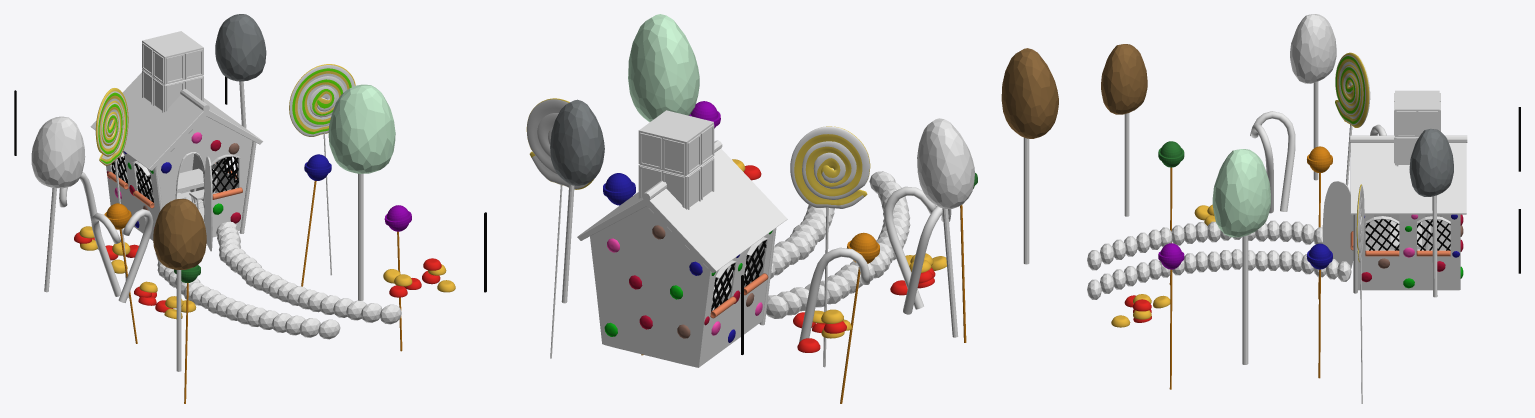
Rendered from land4 details.fbx.
The picture shows the model from 3 angles, left to right: view 1: azimuth 30°, elevation 25°; view 2: azimuth 150°, elevation 25°; view 3: azimuth 270°, elevation 25°; orthographic projection. The views are drawn at different scales.
Parts seen in each view (by area): view 1: CANDY2, GROUNDCHOCOLATE STONES, HOUSE.001, CANDY1.010, HOUSE, HOUSE CHOCOLATE, ground candy.001, CANDY2.003, CANDY2.001, Circle, WINDOW, DINNING (+2 smaller); view 2: CANDY2, HOUSE.001, HOUSE, CANDY1.010, GROUNDCHOCOLATE STONES, HOUSE CHOCOLATE, CANDY2.001, CANDY2.003, ground candy.001, HOUSE STONES.001, WINDOW, Circle; view 3: CANDY2, GROUNDCHOCOLATE STONES, HOUSE, HOUSE.001, CANDY1.010, CANDY2.003, Circle, HOUSE CHOCOLATE, CANDY2.001, WINDOW, ground candy.001, HOUSE STONES.001 (+1 smaller).
Part boxes in pixels (left/top/right/bottom): CANDY2: left=31, top=14, right=395, bottom=371; GROUNDCHOCOLATE STONES: left=155, top=221, right=401, bottom=339; HOUSE.001: left=106, top=116, right=252, bottom=240; CANDY1.010: left=95, top=64, right=355, bottom=297; HOUSE: left=90, top=72, right=263, bottom=193; HOUSE CHOCOLATE: left=142, top=31, right=203, bottom=112; ground candy.001: left=74, top=226, right=455, bottom=319; CANDY2.003: left=104, top=154, right=411, bottom=403; CANDY2.001: left=59, top=172, right=153, bottom=302; Circle: left=153, top=88, right=256, bottom=251; WINDOW: left=14, top=76, right=238, bottom=202; DINNING: left=138, top=168, right=217, bottom=209; CANDY2: left=550, top=14, right=1058, bottom=337; HOUSE.001: left=590, top=206, right=773, bottom=367; HOUSE: left=577, top=148, right=787, bottom=278; CANDY1.010: left=526, top=98, right=870, bottom=367; GROUNDCHOCOLATE STONES: left=744, top=171, right=910, bottom=318; HOUSE CHOCOLATE: left=638, top=110, right=714, bottom=209; CANDY2.001: left=799, top=186, right=951, bottom=342; CANDY2.003: left=603, top=101, right=977, bottom=403; ground candy.001: left=732, top=159, right=946, bottom=352; HOUSE STONES.001: left=604, top=225, right=772, bottom=342; WINDOW: left=484, top=212, right=766, bottom=354; Circle: left=642, top=140, right=776, bottom=325; CANDY2: left=1101, top=14, right=1453, bottom=364; GROUNDCHOCOLATE STONES: left=1087, top=220, right=1351, bottom=299; HOUSE: left=1350, top=142, right=1466, bottom=223; HOUSE.001: left=1357, top=214, right=1460, bottom=290; CANDY1.010: left=1335, top=52, right=1370, bottom=403; CANDY2.003: left=1158, top=141, right=1332, bottom=389; Circle: left=1322, top=135, right=1467, bottom=293; HOUSE CHOCOLATE: left=1394, top=90, right=1440, bottom=166; CANDY2.001: left=1250, top=111, right=1386, bottom=213; WINDOW: left=1365, top=107, right=1520, bottom=273; ground candy.001: left=1111, top=204, right=1215, bottom=327; HOUSE STONES.001: left=1361, top=214, right=1463, bottom=288.
Bounding box in the file's own units: 3361 × 2337 × 3726.
